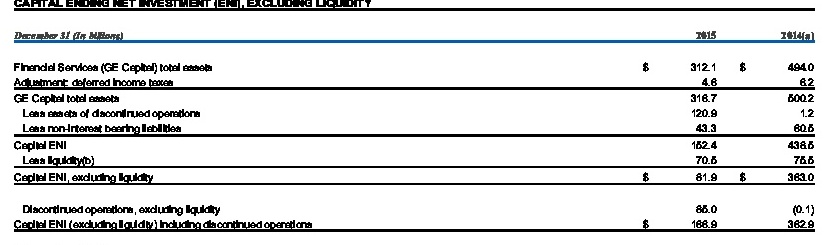table: (0, 0, 831, 245)
